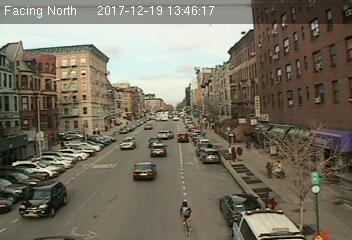bicycle: (178, 199, 195, 237)
car: (17, 181, 69, 218), (218, 193, 263, 227), (133, 161, 156, 181), (200, 148, 220, 163), (151, 142, 165, 156), (119, 138, 136, 149), (157, 129, 174, 140), (177, 133, 189, 142)
police: (231, 206, 302, 240)
